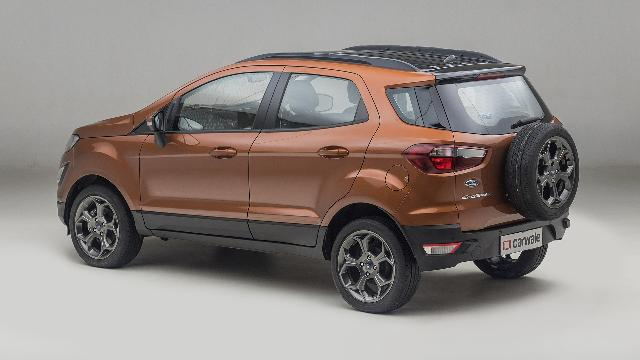ford: (57, 44, 580, 314)
